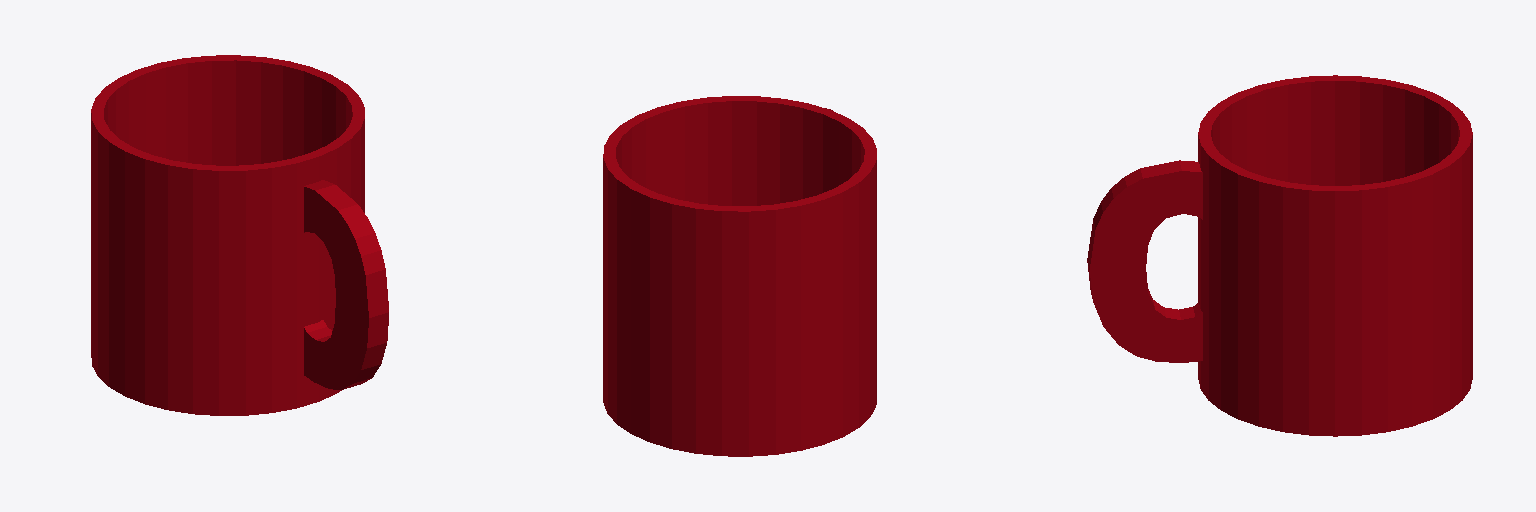
Rendered from cup.obj.
3 views of the same model, side by side, from view 1: azimuth 30°, elevation 25°; view 2: azimuth 150°, elevation 25°; view 3: azimuth 270°, elevation 25° (orthographic).
Parts seen in each view (by area): view 1: cup; view 2: cup; view 3: cup.
Part boxes in pixels (bbox=[...]): cup: bbox=[91, 55, 388, 415]; cup: bbox=[603, 96, 876, 456]; cup: bbox=[1087, 75, 1472, 436].
Bounding box in the file's own units: 66 × 65 × 92.67.